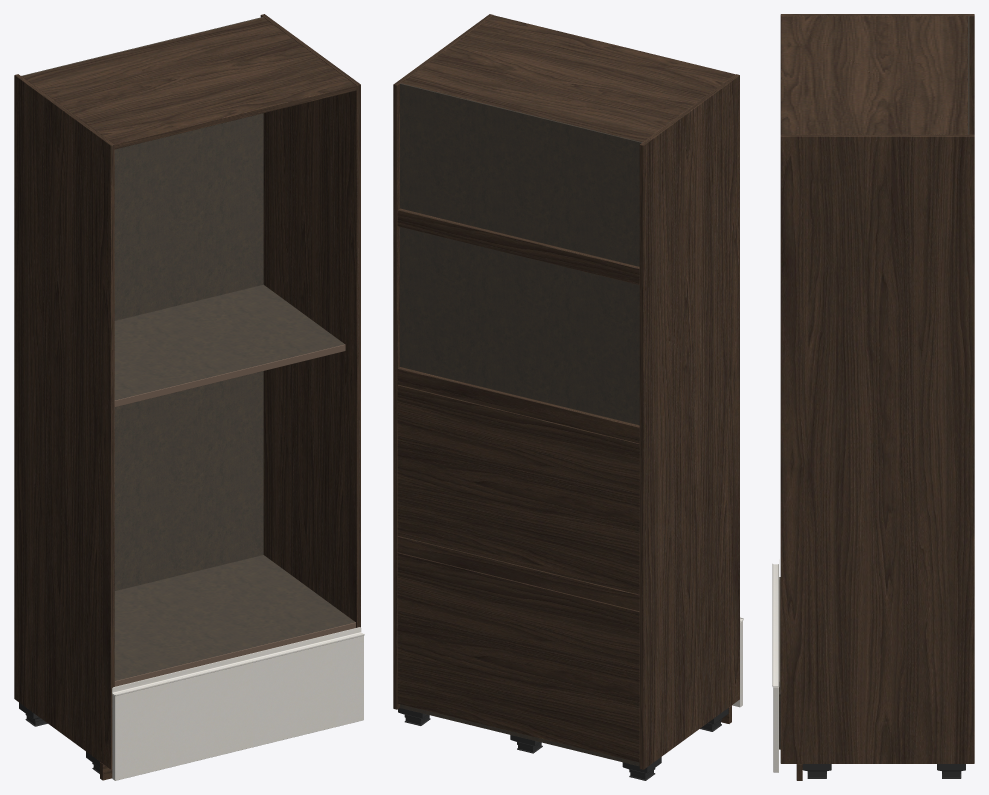
3 views of the same model, side by side, from view 1: azimuth 30°, elevation 25°; view 2: azimuth 150°, elevation 25°; view 3: azimuth 270°, elevation 25° (orthographic).
Visible parts, largest first — view 1: HK1001254; view 2: HK1001254; view 3: HK1001254.
Boxes of the visible parts, x1,y1,x2,y2 form: HK1001254: (14, 14, 364, 780); HK1001254: (393, 14, 743, 780); HK1001254: (772, 14, 974, 780).
Size of the model in its own units: 0.9 by 2.2 by 0.6256.
8 materials, 7 textured.
